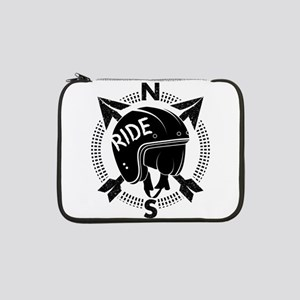with_helmet: (112, 106, 193, 179)
